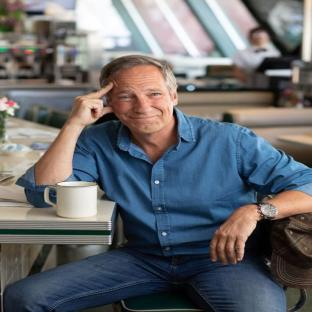Human: (4, 55, 312, 312)
